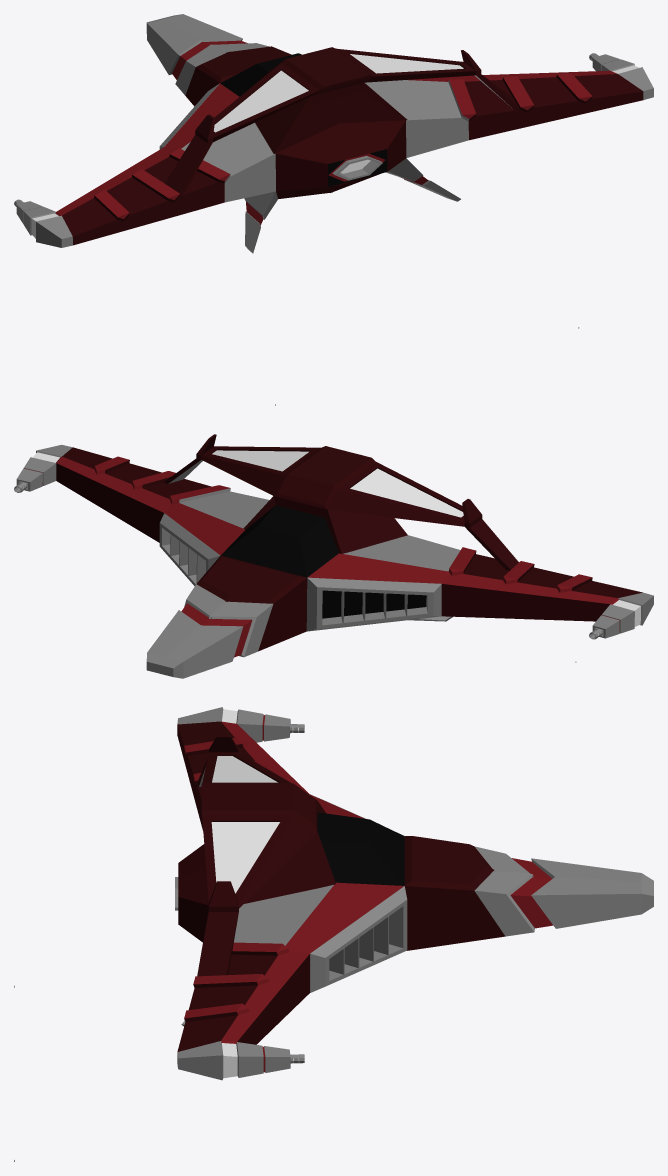
File: SpaceShip.fbx
3 renders of one model, top to bottom at view 1: azimuth 30°, elevation 25°; view 2: azimuth 150°, elevation 25°; view 3: azimuth 270°, elevation 25°, orthographic. The views are drawn at different scales.
Visible parts, largest first — view 1: SpaceShip; view 2: SpaceShip; view 3: SpaceShip.
Part boxes in pixels (x1,y1,x2,y2): SpaceShip: (14, 14, 653, 253); SpaceShip: (14, 434, 653, 678); SpaceShip: (175, 707, 653, 1080).
Bounding box in the file's own units: 48992 × 17880 × 37192.
